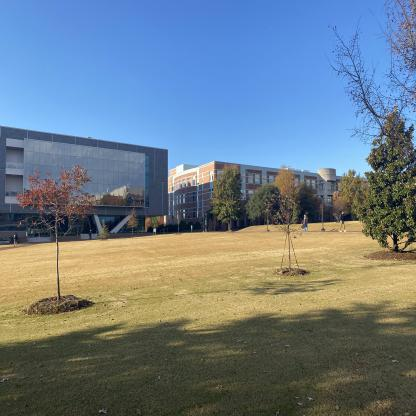EB-1: (167, 158, 408, 234)
